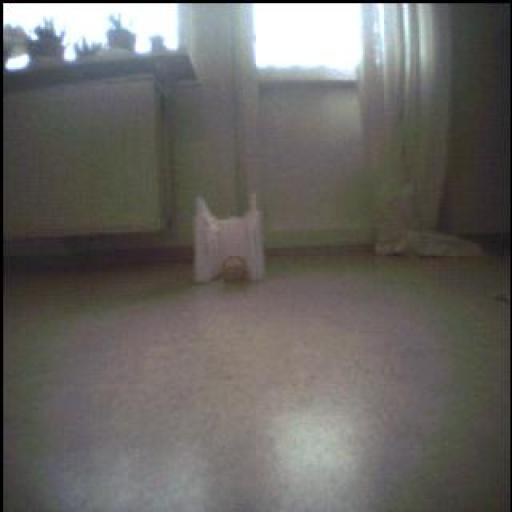Basket: (219, 253, 253, 289)
